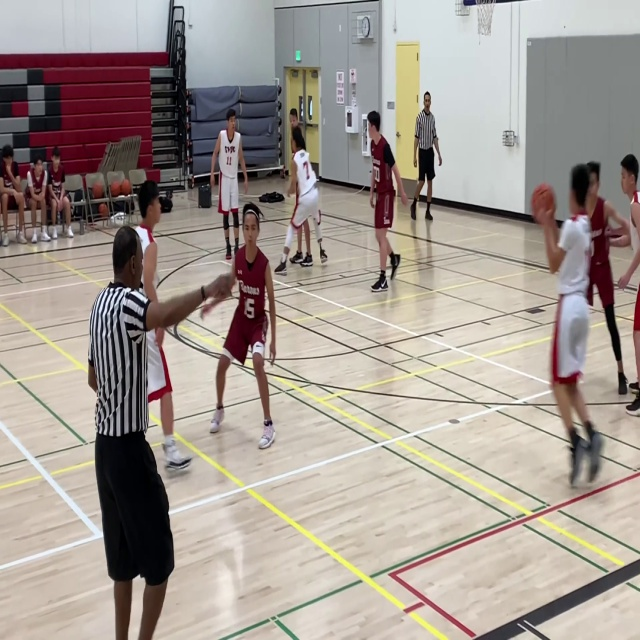Basketball: (531, 183, 555, 219), (121, 178, 132, 195), (92, 183, 104, 198), (110, 180, 121, 196), (98, 203, 109, 218)
